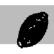correct: (16, 10, 49, 49)
